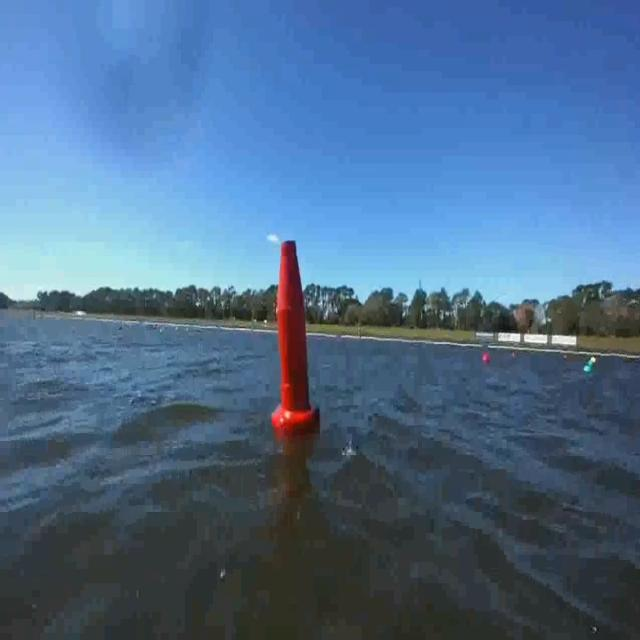red-buoy: (484, 352, 491, 364)
red-column-buoy: (272, 235, 318, 436)
